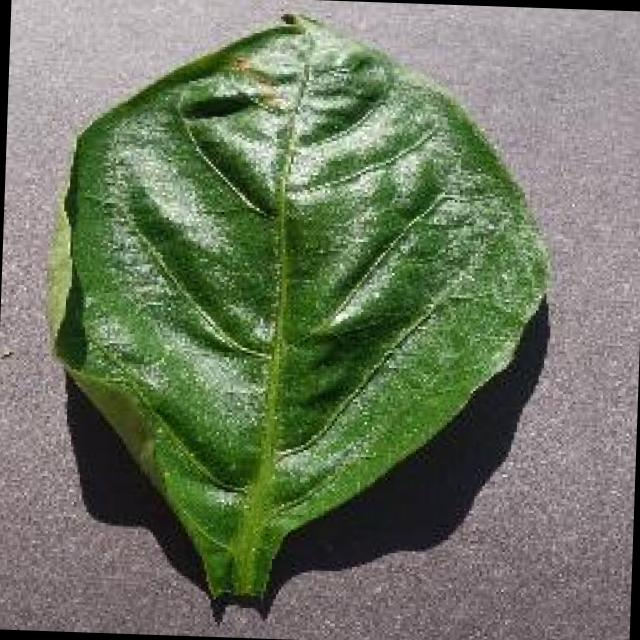Chilli_Bacterial_Spot: (30, 0, 561, 618), (222, 48, 294, 118), (180, 88, 250, 124), (247, 75, 293, 119), (272, 6, 308, 34), (226, 49, 254, 75), (275, 8, 298, 29)
